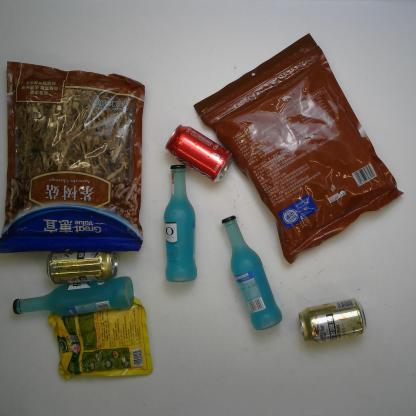Alcohol: (216, 213, 281, 332), (13, 276, 137, 319), (162, 164, 198, 284), (297, 297, 368, 343), (46, 250, 116, 286)
Dried Food: (192, 30, 404, 268), (0, 59, 146, 256)
Drink: (164, 122, 234, 184)
Seasoner: (46, 295, 153, 383)
